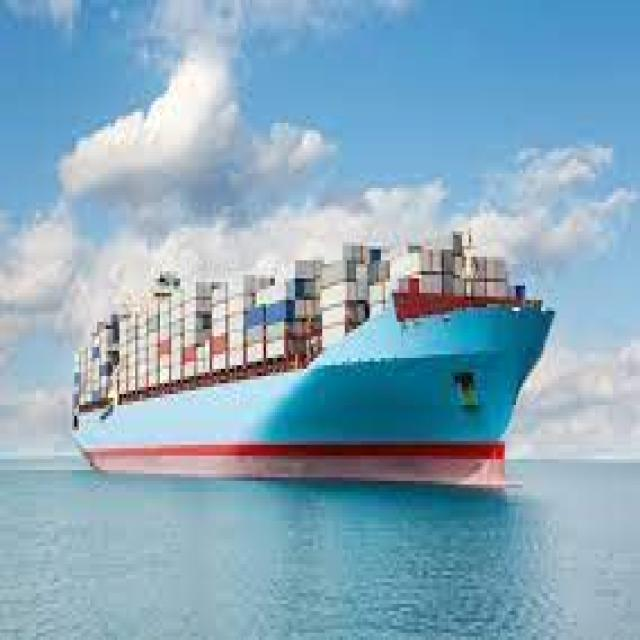cargoship: (70, 234, 548, 494)
